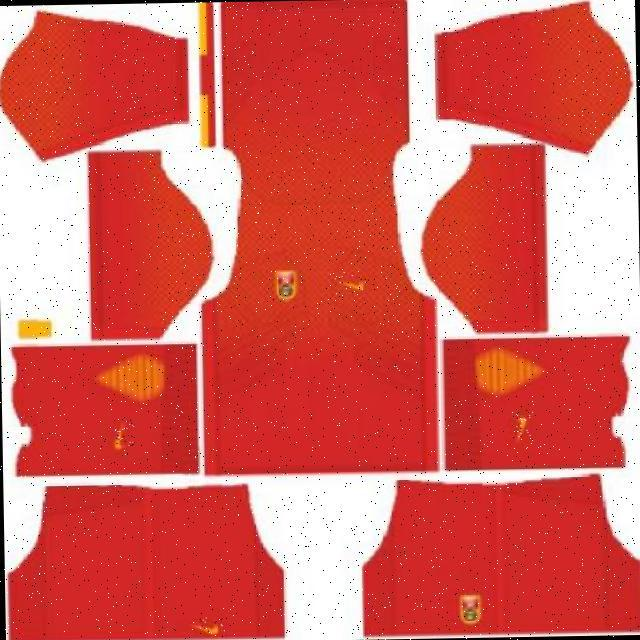Nike: (335, 271, 371, 294), (112, 420, 134, 446), (516, 408, 534, 439), (198, 617, 224, 633)
